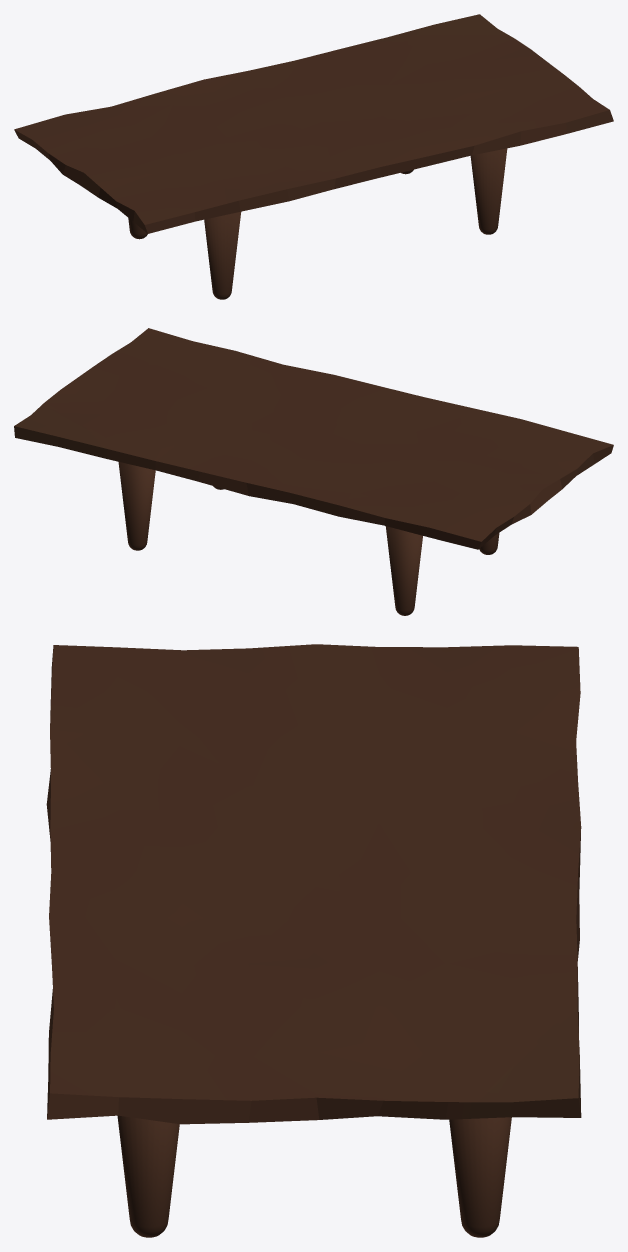
The model's file is TableA_Empty.fbx.
The picture shows the model from 3 angles, top to bottom: view 1: azimuth 30°, elevation 25°; view 2: azimuth 150°, elevation 25°; view 3: azimuth 270°, elevation 25°; orthographic projection. The views are drawn at different scales.
Visible parts, largest first — view 1: TableA; view 2: TableA; view 3: TableA.
Part boxes in pixels (box(x1,y1,x2,y2)): TableA: box(14, 14, 613, 299); TableA: box(14, 328, 613, 615); TableA: box(46, 644, 581, 1237).
Bounding box in the file's own units: 314 × 76.07 × 155.
1 material, 1 textured.
